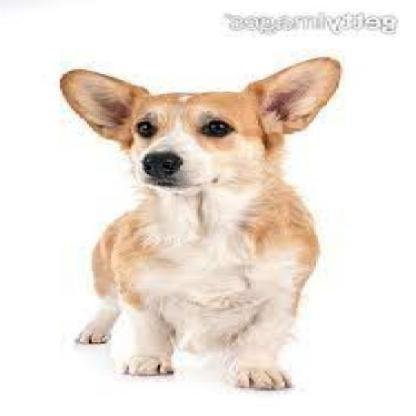dog: (58, 55, 342, 391)
